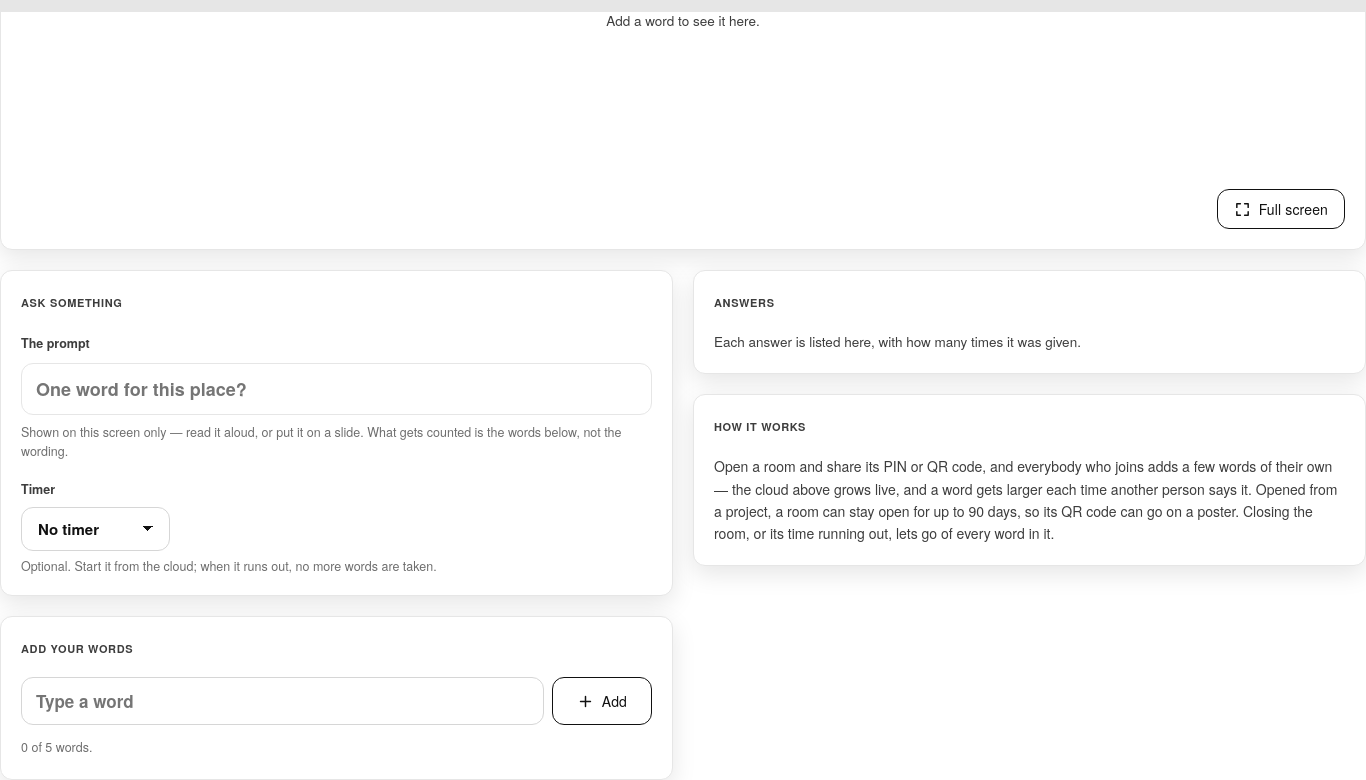
Word Cloud › adds a word to the cloud, cleaned, and clears the field
(page scrolled)
Type "  Green! " into the field named "Your word" at point(282, 701), box [21,677,544,725]
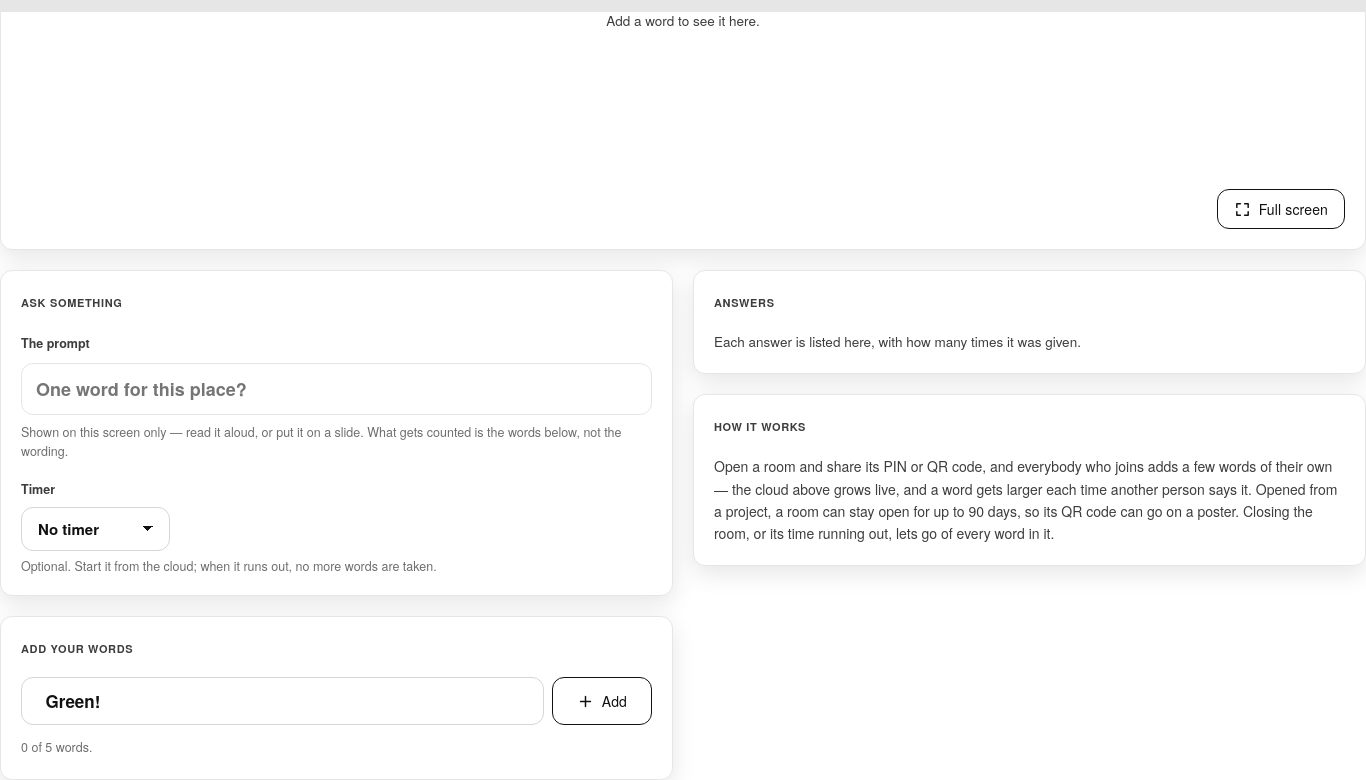
Click the button "Add" at point(602, 701), box [552,677,652,725]
(page scrolled)
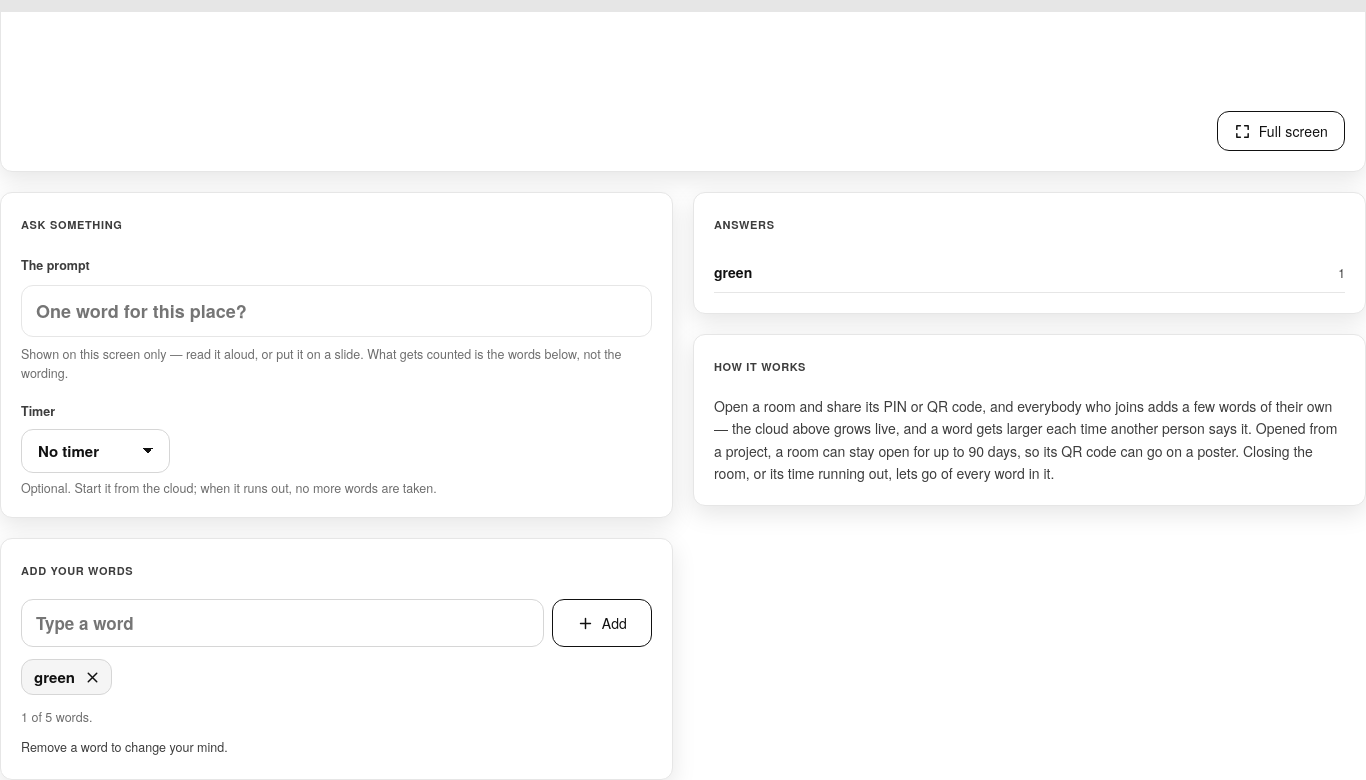
Now the field named "Your word" is empty, box [21,599,544,647]
Now the text "1 of 5 words." is shown, box [21,708,92,726]
